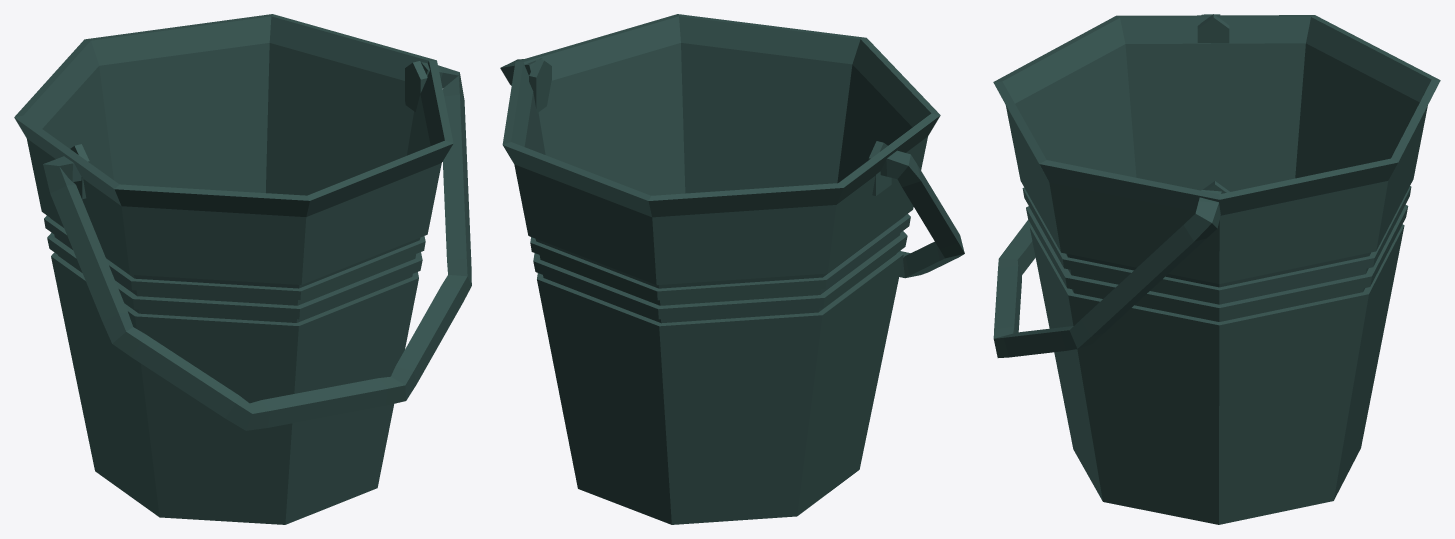
The model's file is bucket.fbx.
The picture shows the model from 3 angles, left to right: view 1: azimuth 30°, elevation 25°; view 2: azimuth 150°, elevation 25°; view 3: azimuth 270°, elevation 25°; orthographic projection.
Parts seen in each view (by area): view 1: bucket; view 2: bucket; view 3: bucket.
Boxes of the visible parts, bbox=[...] form: bucket: bbox=[14, 14, 471, 524]; bucket: bbox=[500, 14, 964, 524]; bucket: bbox=[993, 14, 1440, 524].
Size of the model in its own units: 53.84 by 44.93 by 49.82.
